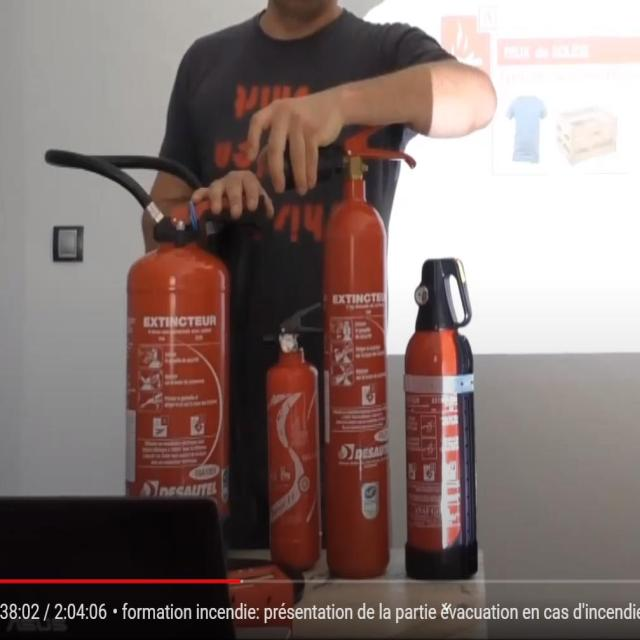fire_extinguisher: (40, 142, 268, 575), (252, 104, 418, 585), (400, 252, 485, 584), (257, 294, 326, 580)
